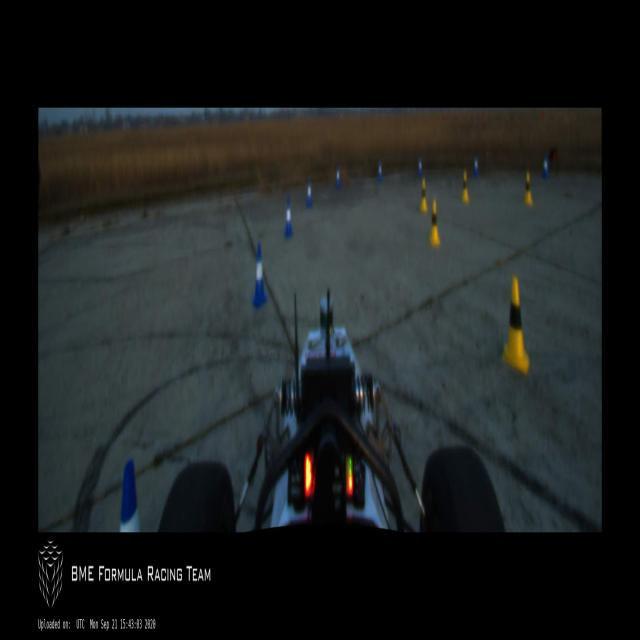blue_cone: (119, 458, 141, 532), (252, 243, 268, 311), (284, 198, 293, 238), (306, 181, 312, 208), (543, 155, 549, 179), (418, 158, 423, 178), (474, 155, 478, 177), (336, 168, 340, 188), (378, 162, 382, 182)
yellow_cone: (502, 276, 529, 376), (429, 198, 440, 247), (524, 169, 534, 206), (420, 177, 428, 213), (462, 169, 469, 204)
